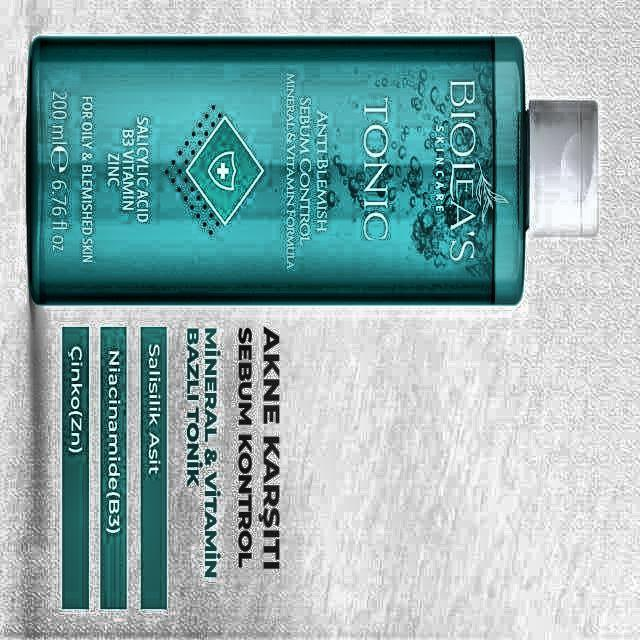plastic: (28, 38, 528, 303)
